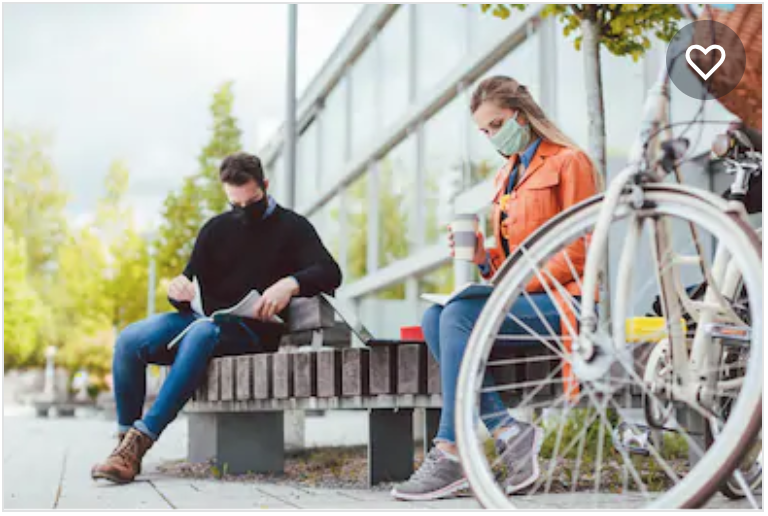Good: (92, 70, 598, 500)
